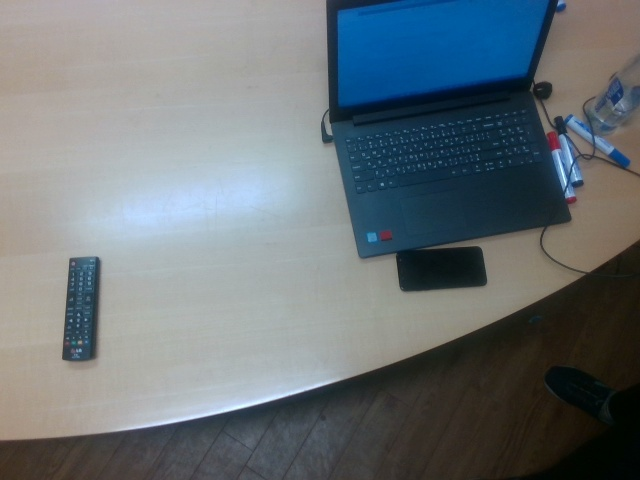remote: (61, 256, 99, 362)
